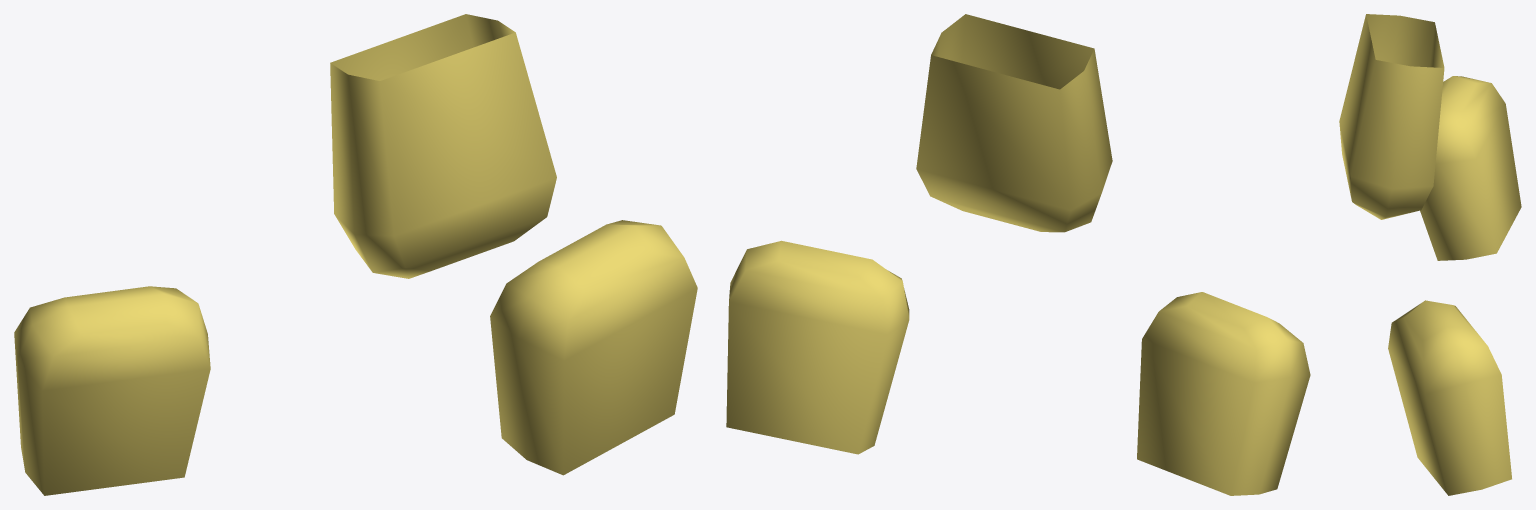
The model's file is ARM1_Teeth_Z01.glb.
The picture shows the model from 3 angles, left to right: view 1: azimuth 30°, elevation 25°; view 2: azimuth 150°, elevation 25°; view 3: azimuth 270°, elevation 25°; orthographic projection. The views are drawn at different scales.
Visible parts, largest first — view 1: ARM1_Teeth_Z01; view 2: ARM1_Teeth_Z01; view 3: ARM1_Teeth_Z01.
Part boxes in pixels (left/top/right/bottom): ARM1_Teeth_Z01: left=14, top=14, right=697, bottom=495; ARM1_Teeth_Z01: left=726, top=14, right=1310, bottom=495; ARM1_Teeth_Z01: left=1339, top=14, right=1521, bottom=495.
Bounding box in the file's own units: 0.1516 × 0.1072 × 0.0479.
